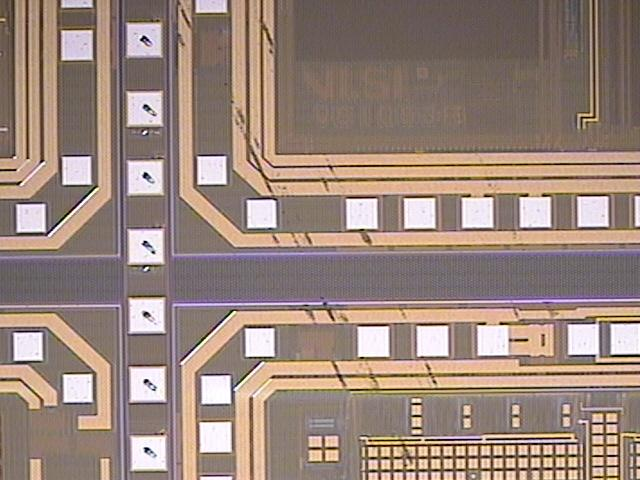SCRATCH: (161, 1, 564, 476)
